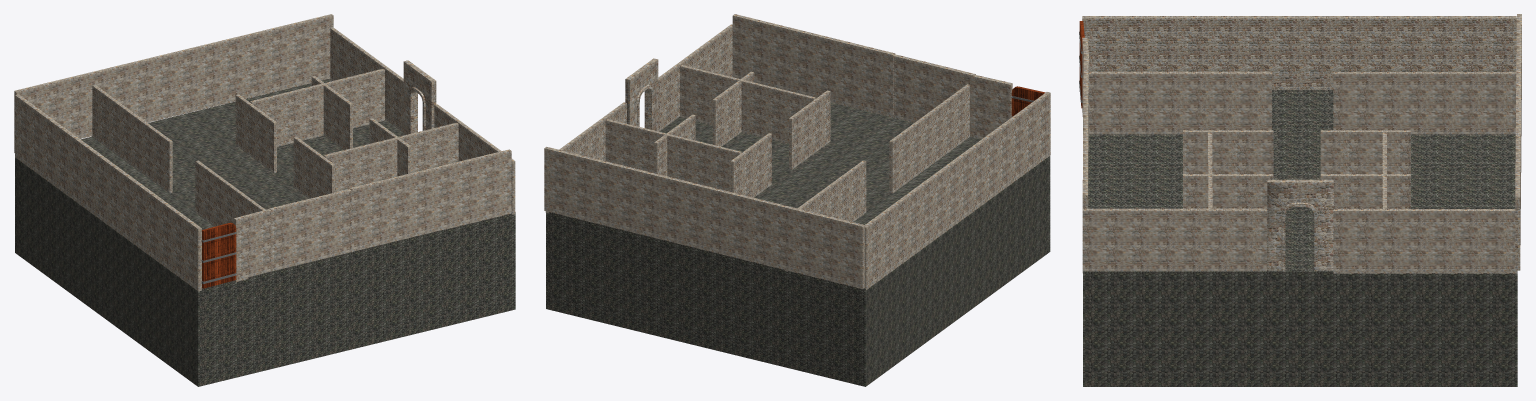
Rendered from map3.obj.
3 renders of one model, left to right at view 1: azimuth 30°, elevation 25°; view 2: azimuth 150°, elevation 25°; view 3: azimuth 270°, elevation 25°, orthographic. The views are drawn at different scales.
Parts seen in each view (by area): view 1: FloorBox, Box001.001, Box001.008, Box001.005, Box001.006, Box001.013_Box001.024, Box001.002, Box001.012_Box001.023, Box001.010_Box001.021, Box001.009_Box001.020, Box001.007, Box001.014_Box001.025 (+6 smaller); view 2: FloorBox, Box001.001, Box001.008, Box001.005, Box001.013_Box001.024, Box001.002, Box001.009_Box001.020, Box001.006, Box001.011_Box001.022, Box001.012_Box001.023, Box001.003, Box001.007 (+6 smaller); view 3: FloorBox, Box001.008, Box001.010_Box001.021, Box001.011_Box001.022, Box001.009_Box001.020, Box001.012_Box001.023, Box001, Box001.003, Box001.014_Box001.025, Box001.016_Box001.027, Box001.015_Box001.026, Box001.001 (+3 smaller).
Part boxes in pixels (x1,y1,x2,y2): FloorBox: (15,79,515,386); Box001.001: (14,14,333,152); Box001.008: (15,94,201,291); Box001.005: (349,149,511,251); Box001.006: (269,189,351,271); Box001.013_Box001.024: (250,69,384,146); Box001.002: (323,122,458,192); Box001.012_Box001.023: (92,85,172,193); Box001.010_Box001.021: (329,27,403,132); Box001.009_Box001.020: (195,160,265,226); Box001.007: (233,209,271,281); Box001.014_Box001.025: (235,94,276,173); FloorBox: (546,102,1050,386); Box001.001: (544,146,864,288); Box001.008: (864,92,1050,289); Box001.005: (732,14,895,117); Box001.013_Box001.024: (605,119,741,191); Box001.002: (680,65,815,143); Box001.009_Box001.020: (889,84,969,193); Box001.006: (893,54,975,122); Box001.011_Box001.022: (658,24,732,131); Box001.012_Box001.023: (784,160,866,271); Box001.003: (789,90,830,169); Box001.007: (970,75,1012,139); FloorBox: (1083,90,1517,386); Box001.008: (1082,16,1516,89); Box001.010_Box001.021: (1333,209,1517,273); Box001.011_Box001.022: (1082,208,1266,272); Box001.009_Box001.020: (1089,71,1271,134); Box001.012_Box001.023: (1333,72,1516,134); Box001: (1267,179,1333,271); Box001.003: (1183,130,1273,179); Box001.014_Box001.025: (1320,130,1410,173); Box001.016_Box001.027: (1183,174,1273,234); Box001.015_Box001.026: (1320,174,1410,208); Box001.001: (1515,14,1521,270).
Size of the model in its own units: 513 by 265 by 522.
